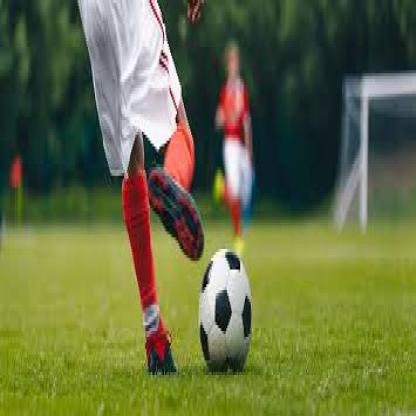ball: (200, 247, 252, 372)
